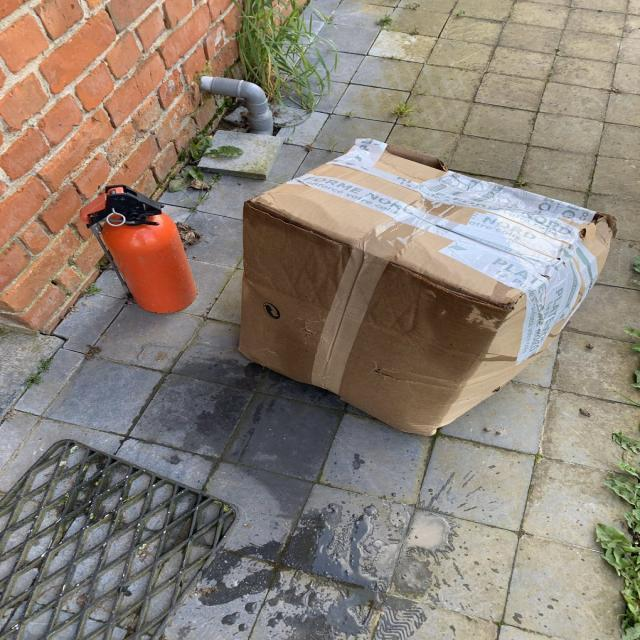hole: (92, 184, 164, 234)
wet: (412, 278, 517, 403)
